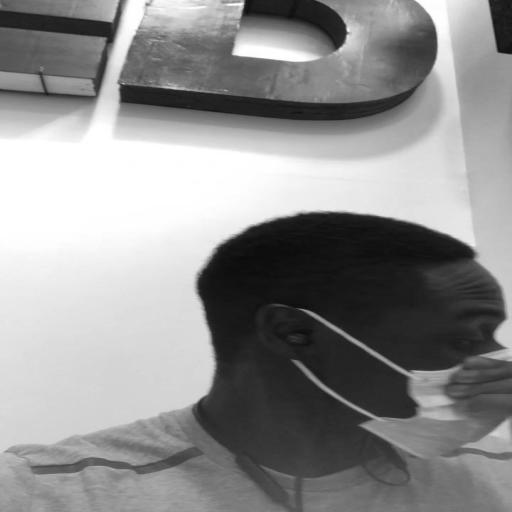mask: (291, 263, 508, 461)
